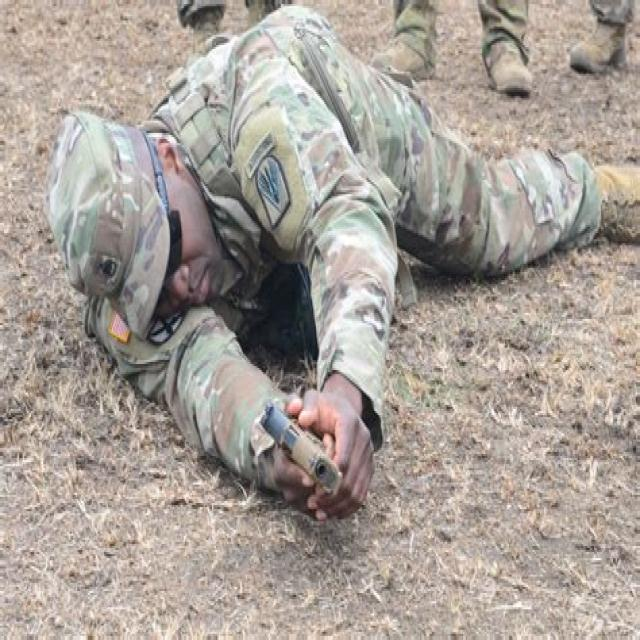weapons: (248, 384, 372, 527)
